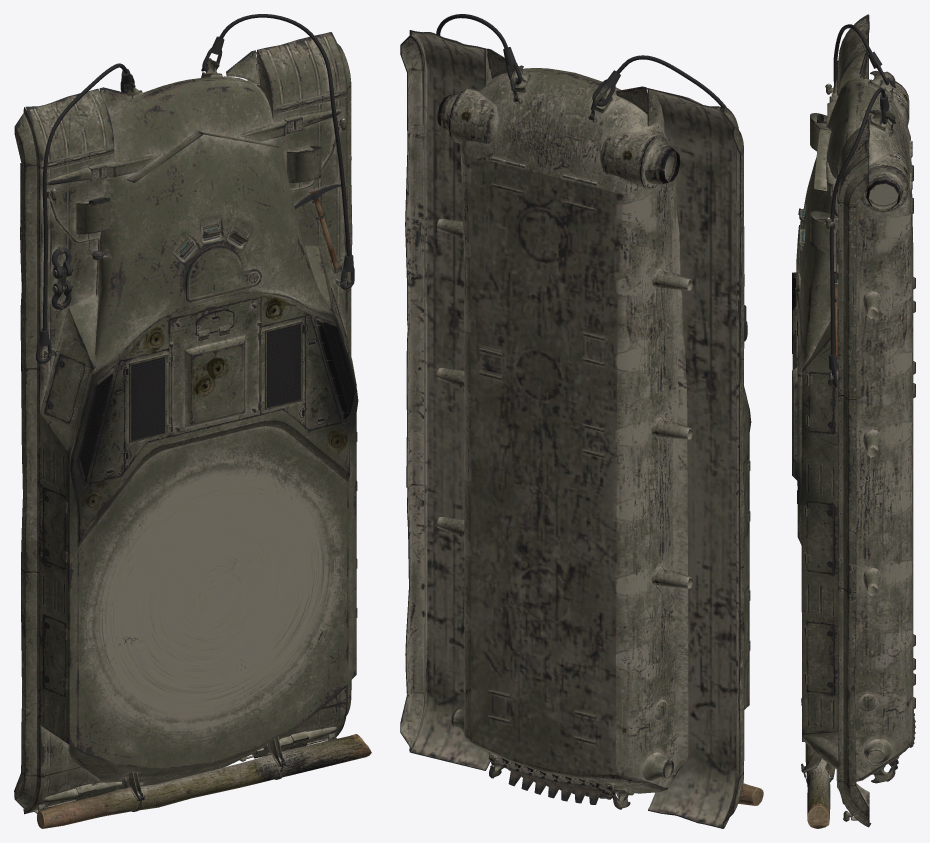
Rendered from Hull.glb.
3 views of the same model, side by side, from view 1: azimuth 30°, elevation 25°; view 2: azimuth 150°, elevation 25°; view 3: azimuth 270°, elevation 25° (orthographic). The views are drawn at different scales.
Parts seen in each view (by area): view 1: set_0_group_0; view 2: set_0_group_0; view 3: set_0_group_0.
Boxes of the visible parts, x1,y1,x2,y2 form: set_0_group_0: (14,14,371,828); set_0_group_0: (400,14,763,828); set_0_group_0: (792,14,915,828).
Bounding box in the file's own units: 3.53 × 7.61 × 1.21.
Materials: 1 (1 with a texture image).
